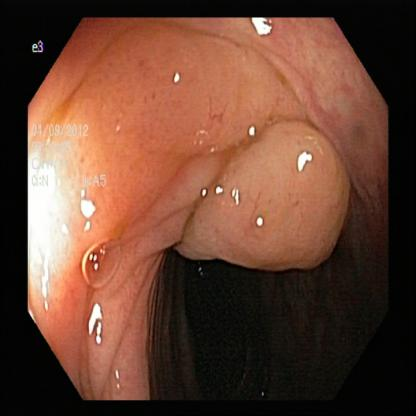Labels: (27, 117, 122, 208), (27, 38, 62, 66)
Polyps: (194, 123, 336, 274)
